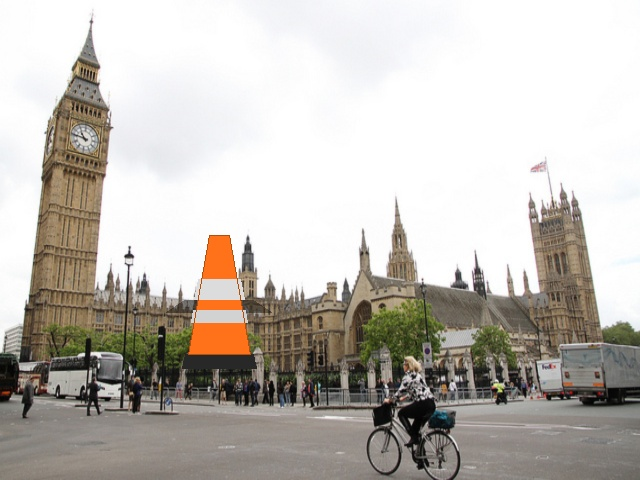traffic-cone: (182, 235, 256, 368)
